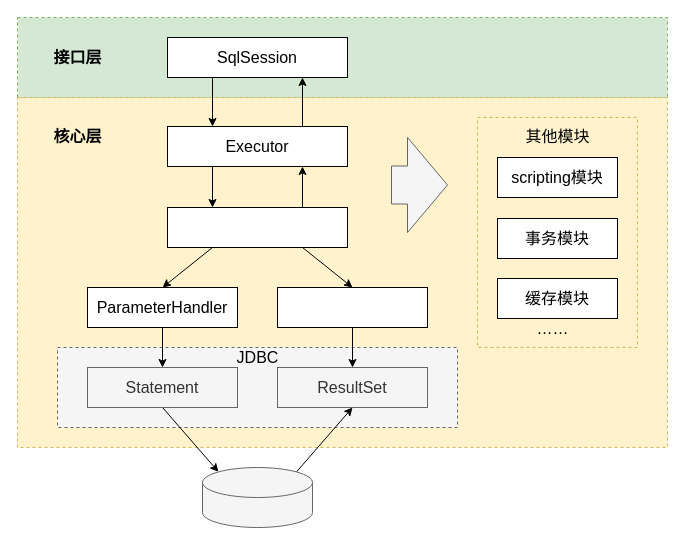
Some shapes in this 685 by 545 pixel diagram are drawn without their labels. Here are the shapes that lost their labels. From the top down, the centre of each, then its label:
At point (419, 184): "依赖".
At point (257, 227): "StatementHandler".
At point (352, 307): "ResultSetHandler".
At point (257, 497): "数据库".
